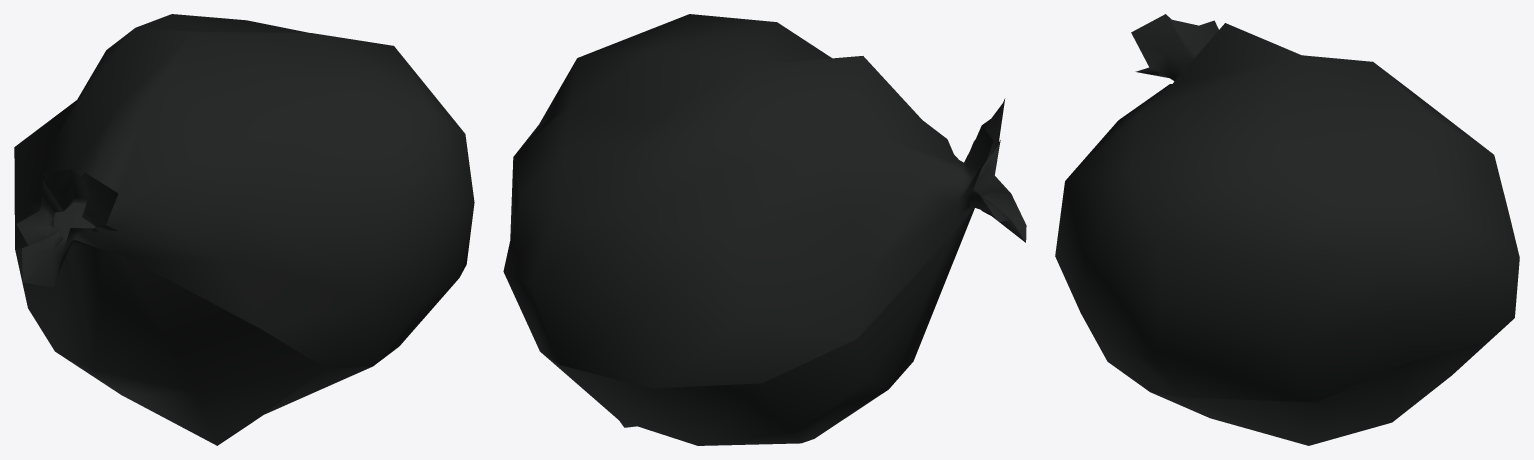
File: wrapper.glb
3 views of the same model, side by side, from view 1: azimuth 30°, elevation 25°; view 2: azimuth 150°, elevation 25°; view 3: azimuth 270°, elevation 25° (orthographic). The views are drawn at different scales.
Visible parts, largest first — view 1: GarbageBag2_001_Material_0; view 2: GarbageBag2_001_Material_0; view 3: GarbageBag2_001_Material_0.
Boxes of the visible parts, x1,y1,x2,y2 form: GarbageBag2_001_Material_0: (14,14,474,445); GarbageBag2_001_Material_0: (503,14,1026,445); GarbageBag2_001_Material_0: (1055,14,1519,445).
Bounding box in the file's own units: 0.3209 × 0.261 × 0.3058.
Materials: 1 (1 with a texture image).
